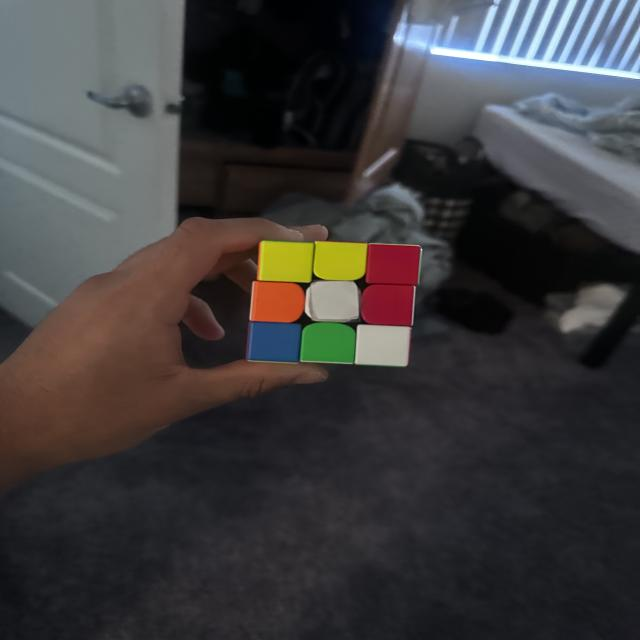sticker: (363, 241, 424, 287), (358, 283, 418, 329), (352, 323, 412, 368), (256, 239, 314, 285), (310, 239, 369, 284), (249, 280, 306, 325), (299, 322, 357, 366), (304, 280, 362, 324), (246, 320, 303, 364)
